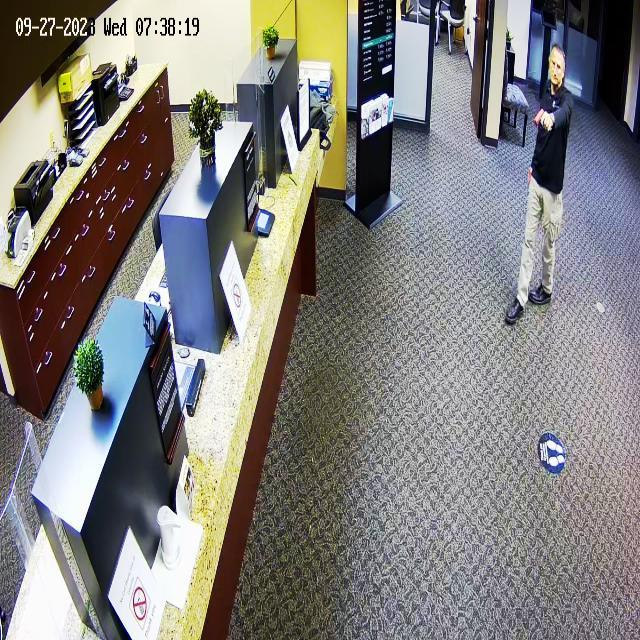Gun: (529, 100, 558, 138)
